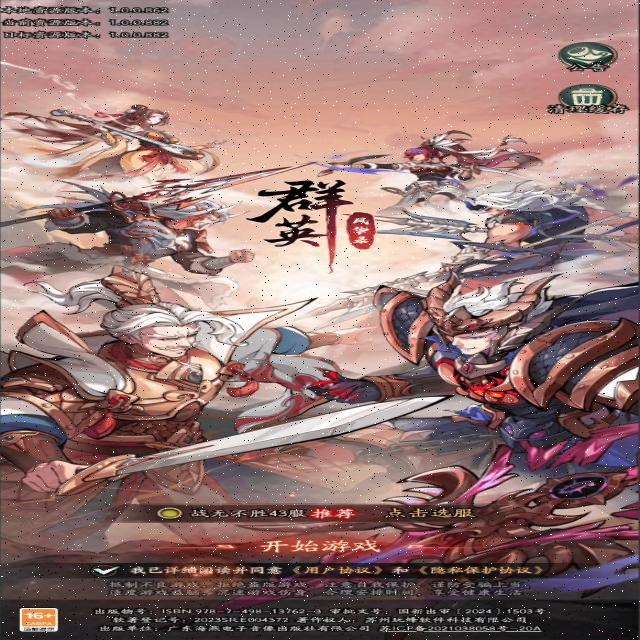operation-enter: (251, 536, 385, 555)
system-cleanUpCache: (541, 93, 636, 116)
system-notices: (554, 42, 624, 73)
system-protocol-box: (132, 563, 285, 576)
